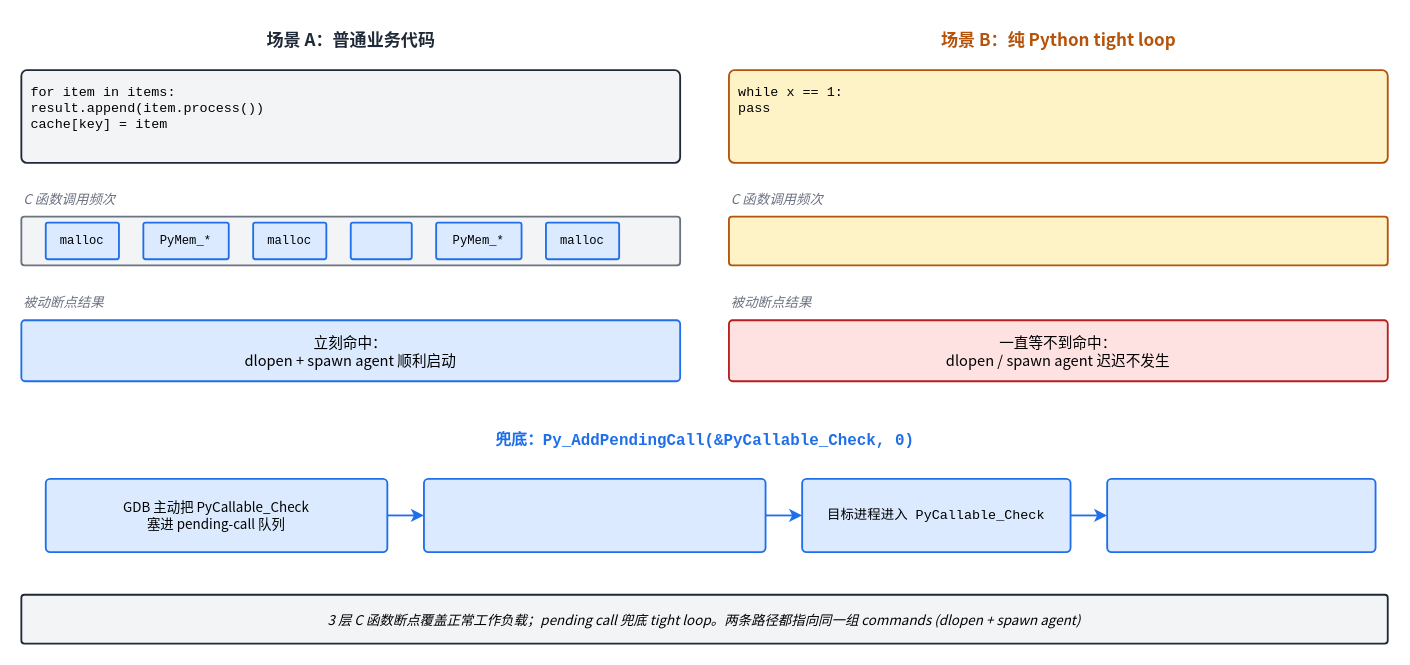
Image size: 1410x665. Some labels were removed from this diagram. The shapes that lost their labels are listed below. From the top down, each one's centre as x and y in pixels, then its label:
the point at 380,240: free
the point at 1057,240: (没有新的 malloc / PyMem_*)
the point at 594,514: eval loop 下一个检查点 触发 pending call
the point at 1241,514: b PyCallable_Check 命中 dlopen + spawn agent
